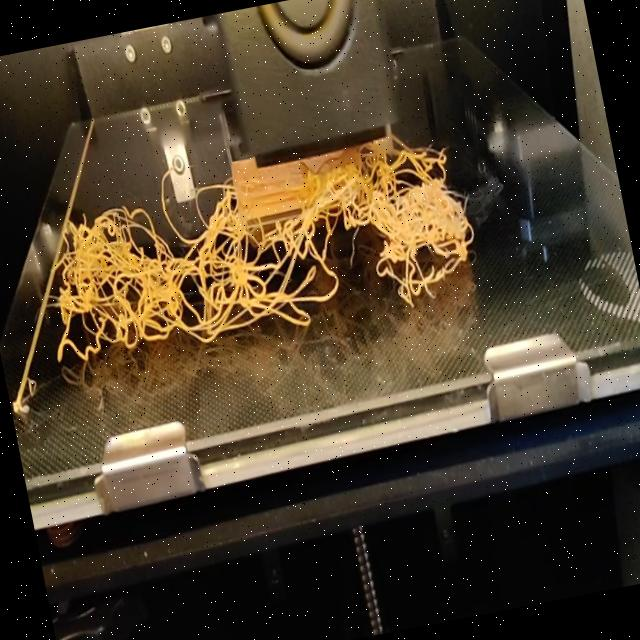spaghetti: (23, 124, 490, 378)
